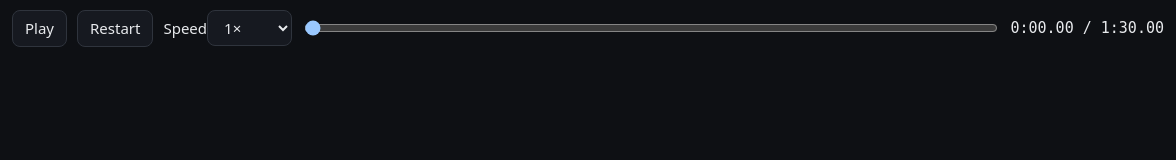
Scenario: PlaybackControls › toggles the play button label and exposes a labelled scrubber
Click the button "Play".
click(40, 28)  # box [12,10,67,46]
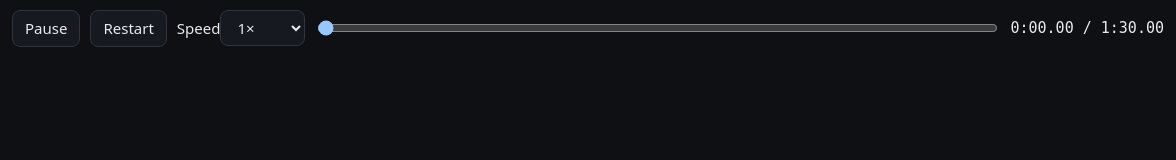
Expected: the slider named "Playback position" is shown, [317,19,998,37]
Now the button "Pause" is shown, box [12,10,80,46]
